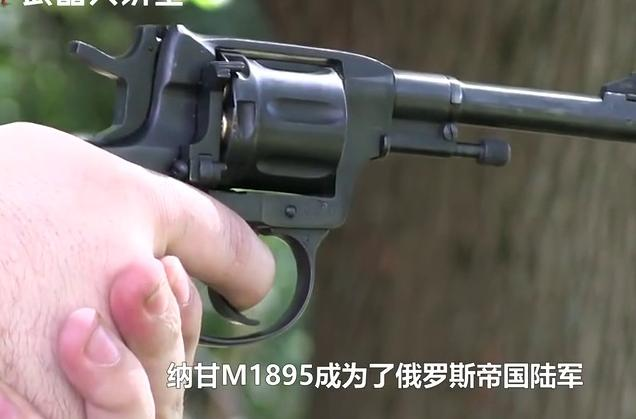gun: (1, 1, 636, 419)
